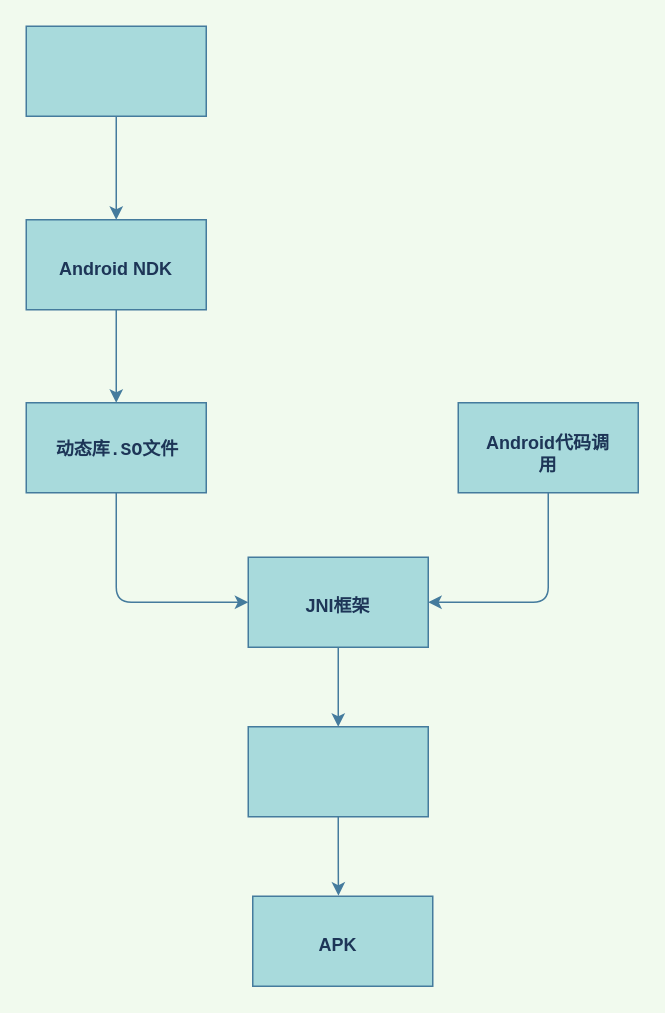
This 665x1013 diagram has some shape labels left out. Each missing label, with the box of its shape:
Android SDK: (247, 725, 428, 817)
C/C++源码: (25, 25, 206, 116)
